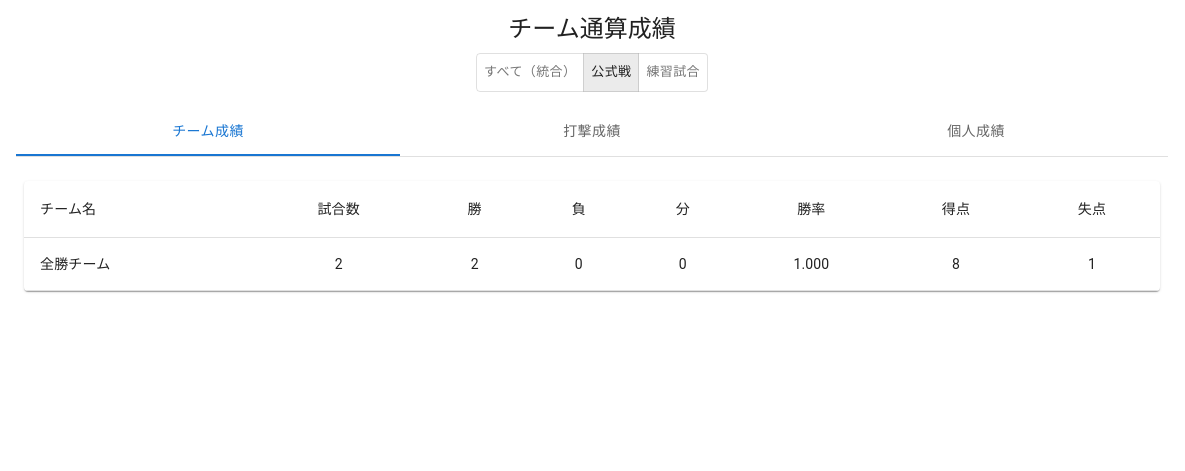
Test: 登録試合数と控えの説明がデスクトップ／モバイルで一致する (mobile=false)
This screenshot has width=1185, height=471.
Expected: the column heading "全勝チーム" is shown, x1=24 y1=238 x2=255 y2=291
Step 1. Click the tab "個人成績" → (976, 132), box x1=784 y1=108 x2=1168 y2=156
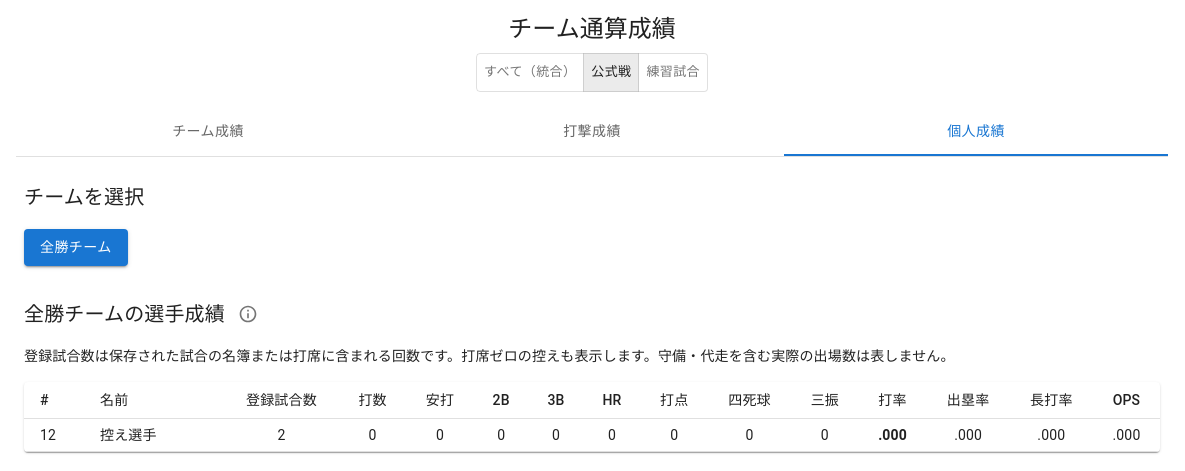
Expected: the text "打席ゼロの控えも表示します" is shown, x1=24 y1=348 x2=955 y2=364
Expected: the column heading "登録試合数" is shown, x1=224 y1=382 x2=339 y2=418
Expected: the text "控え選手" is shown, x1=84 y1=418 x2=224 y2=451
